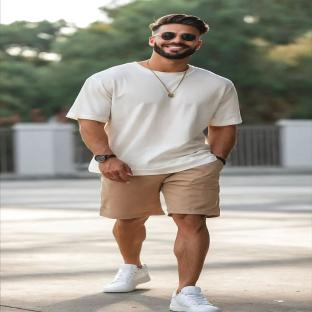Human: (67, 14, 242, 312)
